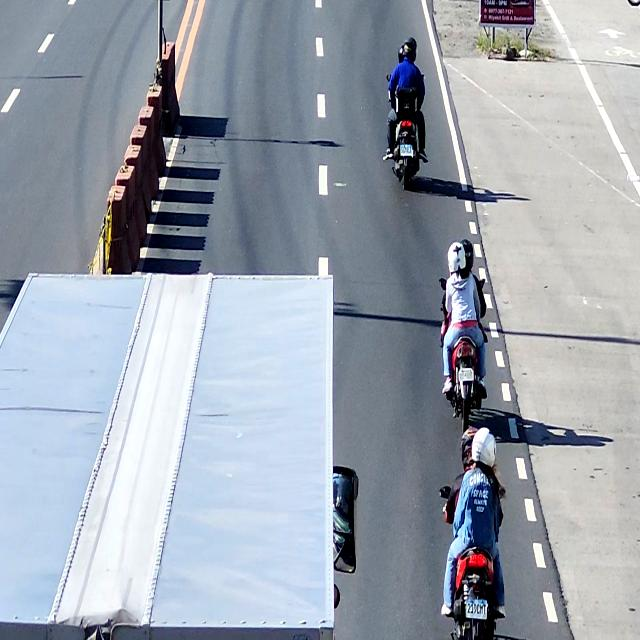License-Plate: (462, 594, 490, 622), (455, 366, 475, 384), (399, 142, 415, 158)
Motorcycle: (442, 465, 503, 640), (438, 273, 490, 435), (388, 55, 424, 190)
Truck: (0, 272, 334, 640)
